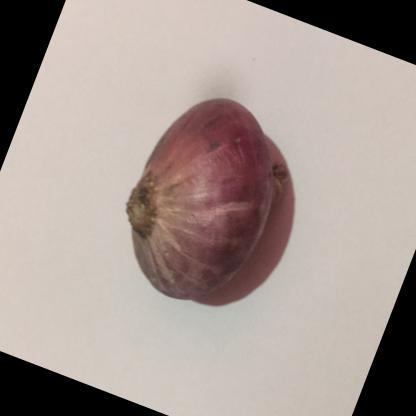onion: (72, 56, 326, 364)
